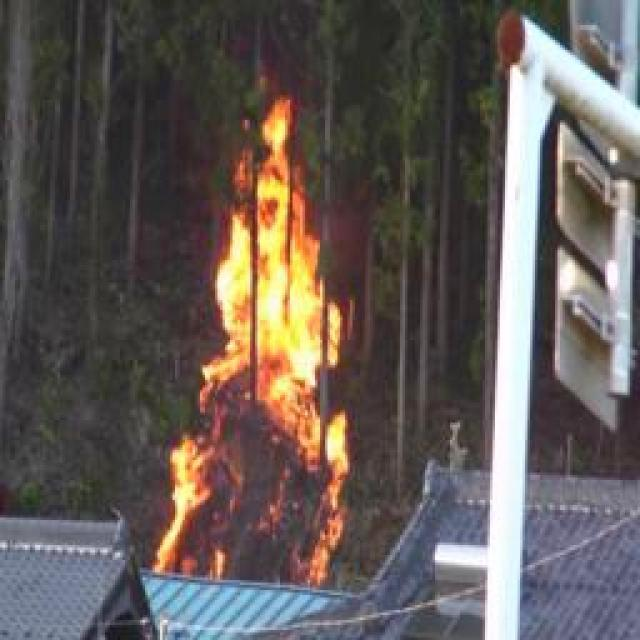Fire: (164, 120, 348, 592)
